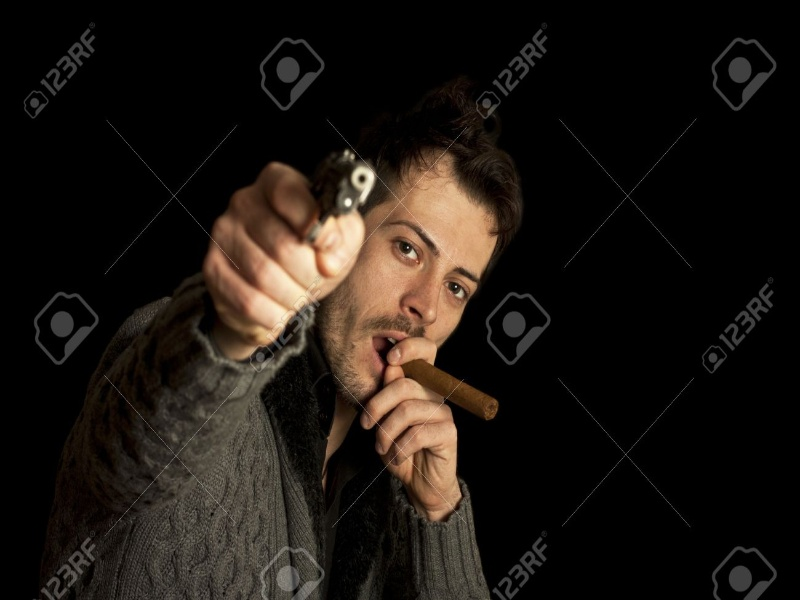gun: (278, 141, 397, 281)
